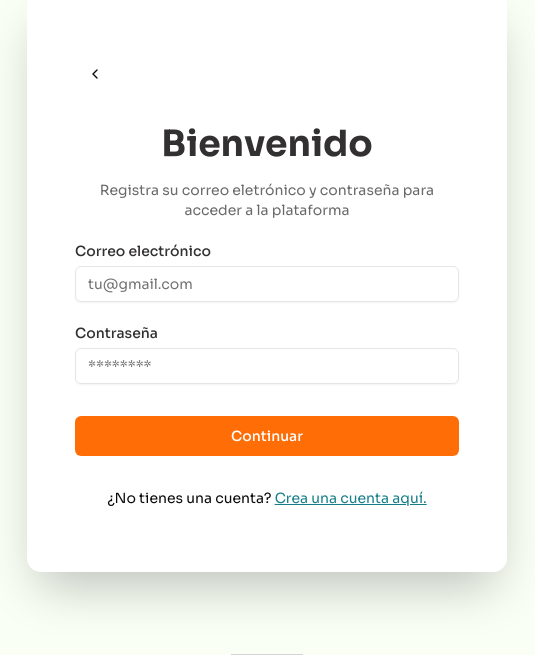
Test: LoginPage › muestra error de validación si la contraseña está vacía
In the field labelled "Correo electrónico": (267, 284) [75,266,459,302], type "test@test.com"
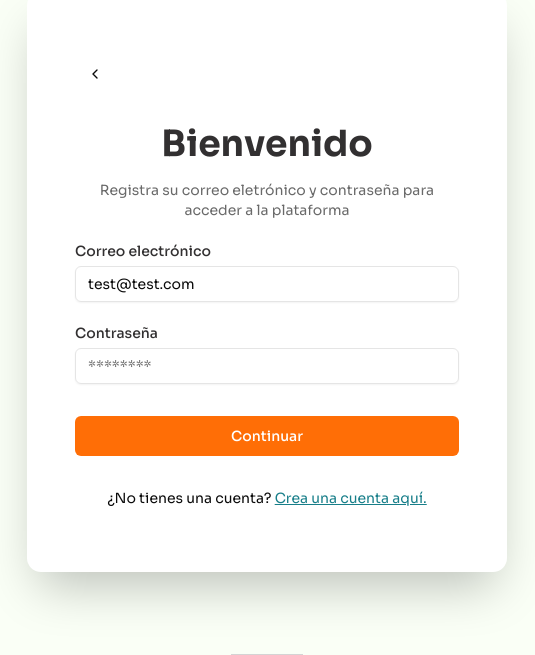
Click the button "Continuar": (267, 436) [75,416,459,456]
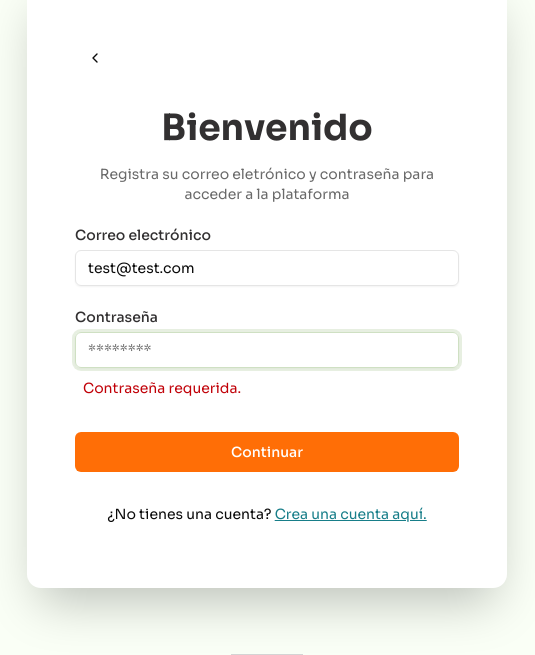
expect the text "Contraseña requerida." is shown: met, box [83,379,241,397]
